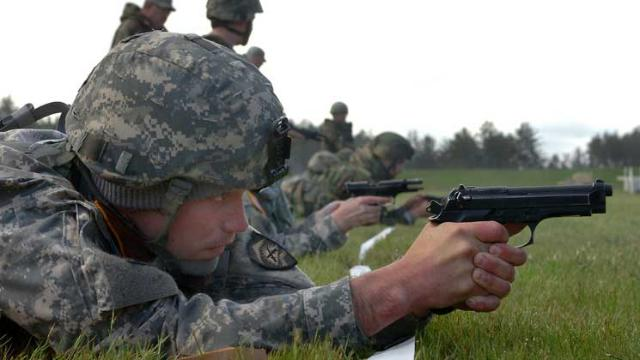handgun: (422, 178, 616, 318), (342, 177, 426, 229)
